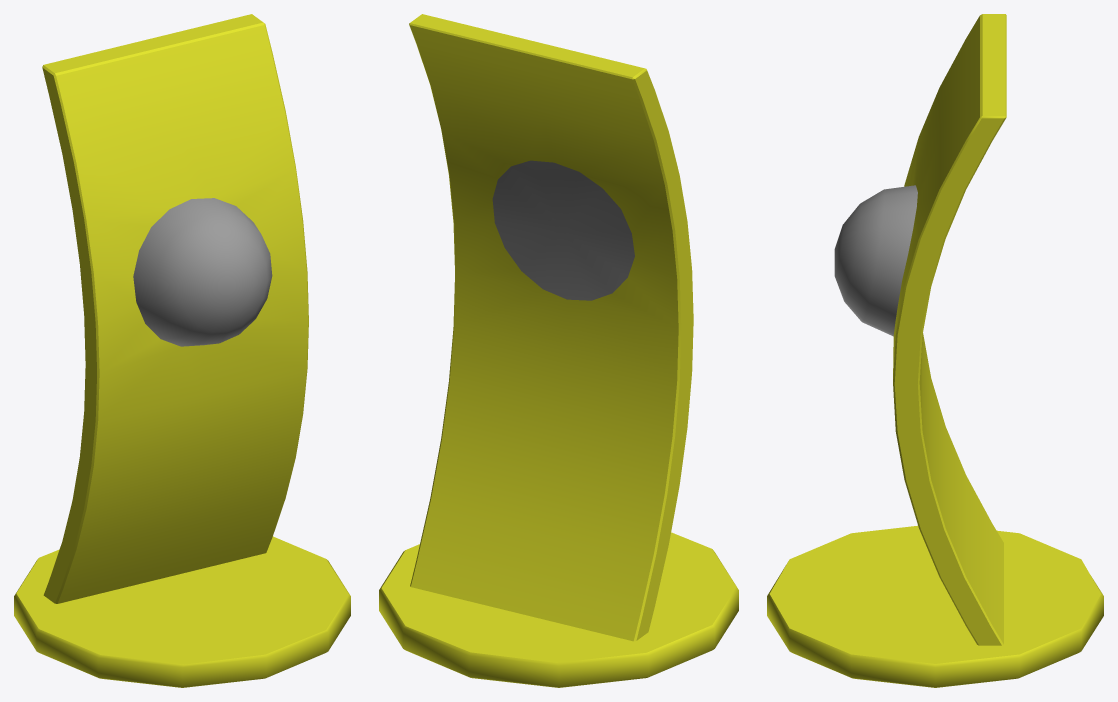
Rendered from FIFA_World_player.FBX.
The picture shows the model from 3 angles, left to right: view 1: azimuth 30°, elevation 25°; view 2: azimuth 150°, elevation 25°; view 3: azimuth 270°, elevation 25°; orthographic projection. The views are drawn at different scales.
Parts seen in each view (by area): view 1: FIFA_World_player; view 2: FIFA_World_player; view 3: FIFA_World_player.
Part boxes in pixels (left/top/right/bottom): FIFA_World_player: left=14, top=14, right=350, bottom=687; FIFA_World_player: left=379, top=14, right=738, bottom=687; FIFA_World_player: left=767, top=14, right=1103, bottom=687.
Size of the model in its own units: 54.97 by 99.58 by 54.97.
